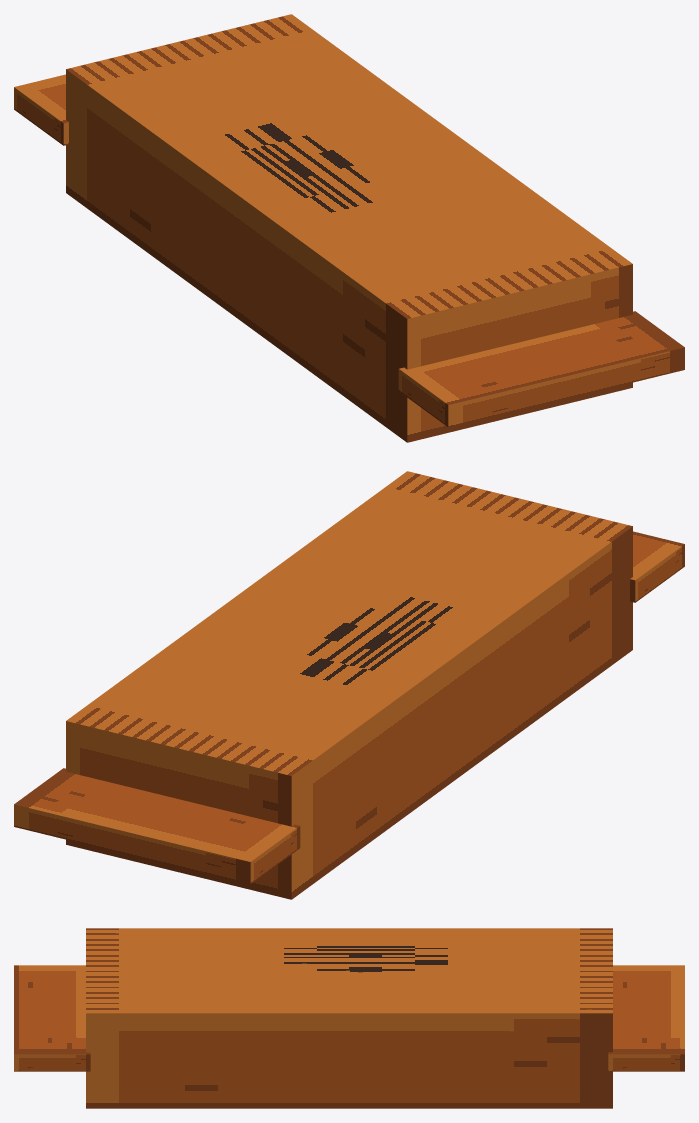
The model's file is INV_EnergySnack.glb.
3 views of the same model, one above another, from view 1: azimuth 30°, elevation 25°; view 2: azimuth 150°, elevation 25°; view 3: azimuth 270°, elevation 25° (orthographic). The views are drawn at different scales.
Visible parts, largest first — view 1: INV_EnergySnack_Mesh; view 2: INV_EnergySnack_Mesh; view 3: INV_EnergySnack_Mesh.
Part boxes in pixels (x1,y1,x2,y2): INV_EnergySnack_Mesh: (14, 14, 684, 442); INV_EnergySnack_Mesh: (14, 471, 684, 899); INV_EnergySnack_Mesh: (14, 928, 684, 1108).
Size of what is drawn, in the model's own units: 0.044 by 0.022 by 0.14.
Materials: 1 (1 with a texture image).
